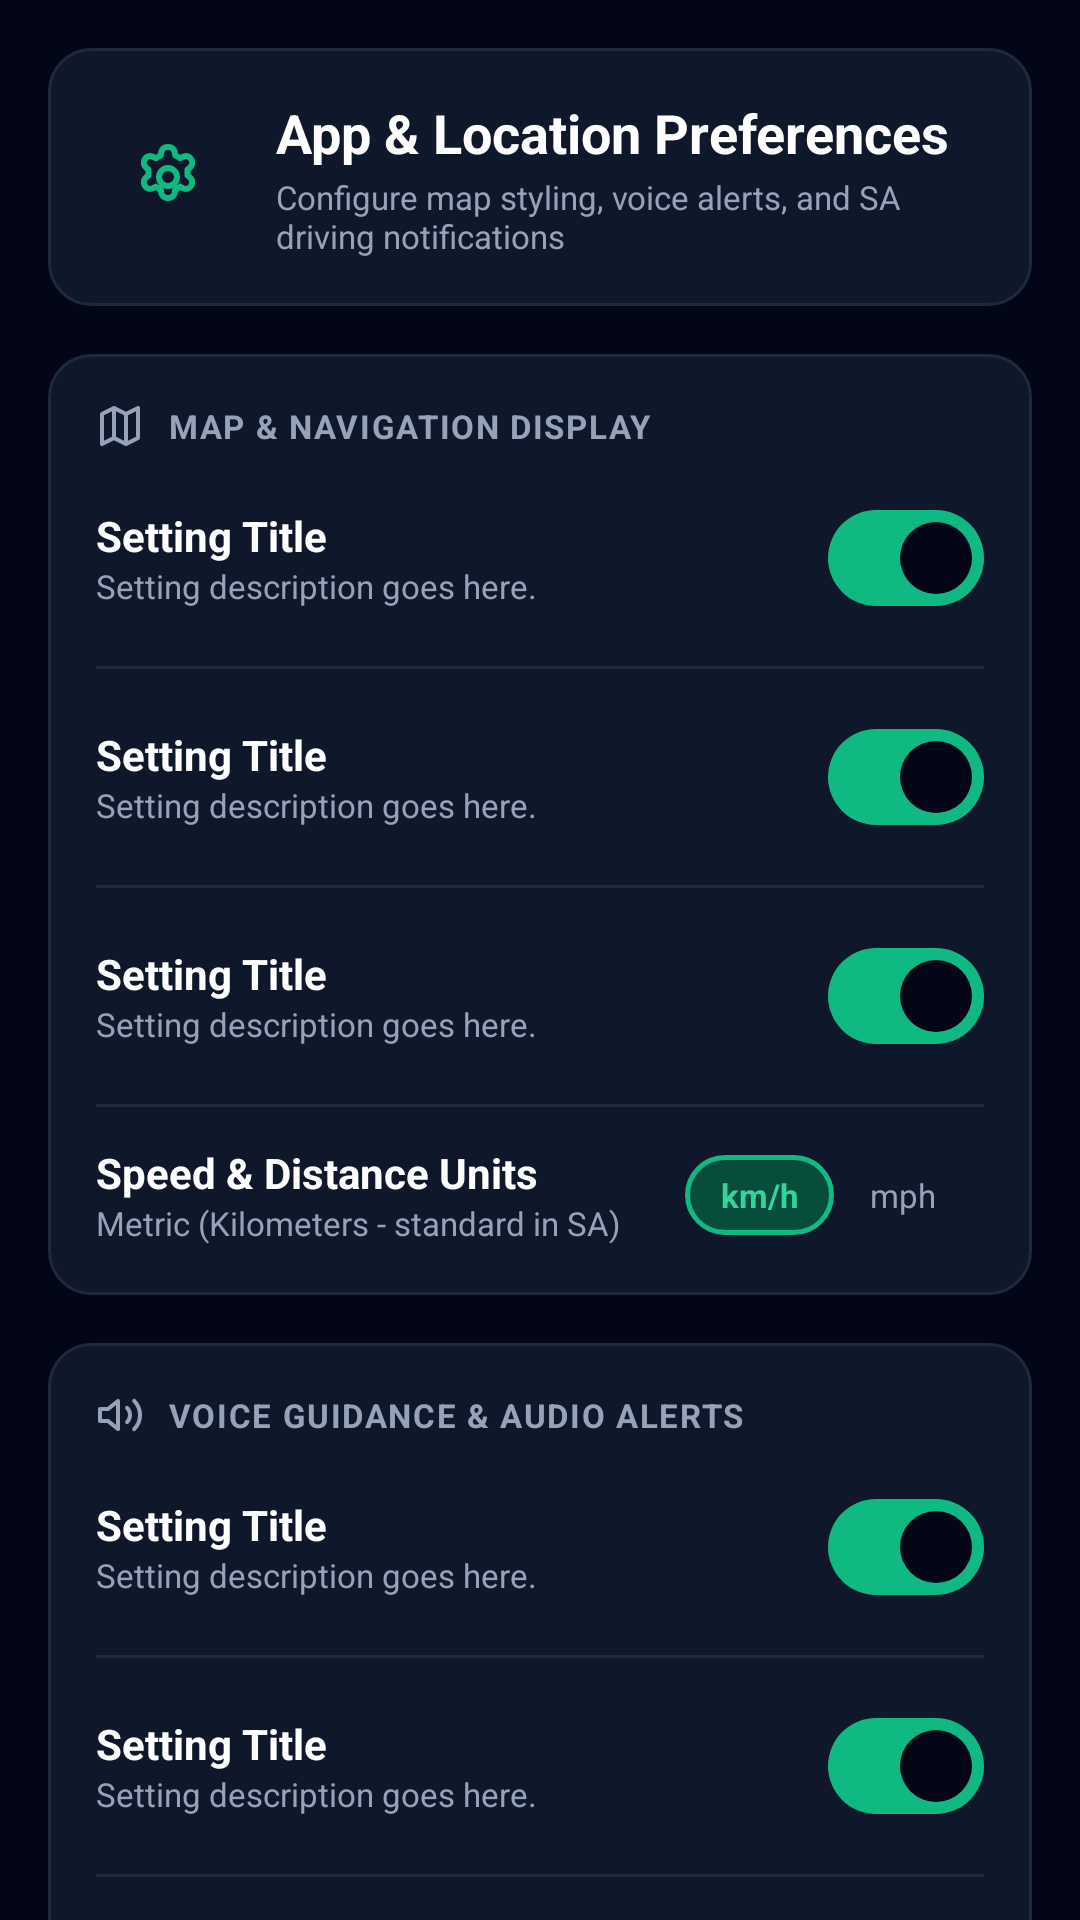

Where icons sit on this 1080×1920 app screen, as bbox=(x1, y1, x2, y2):
Settings Icon: bbox=(141, 144, 195, 201)
volume up: bbox=(98, 1398, 142, 1432)
